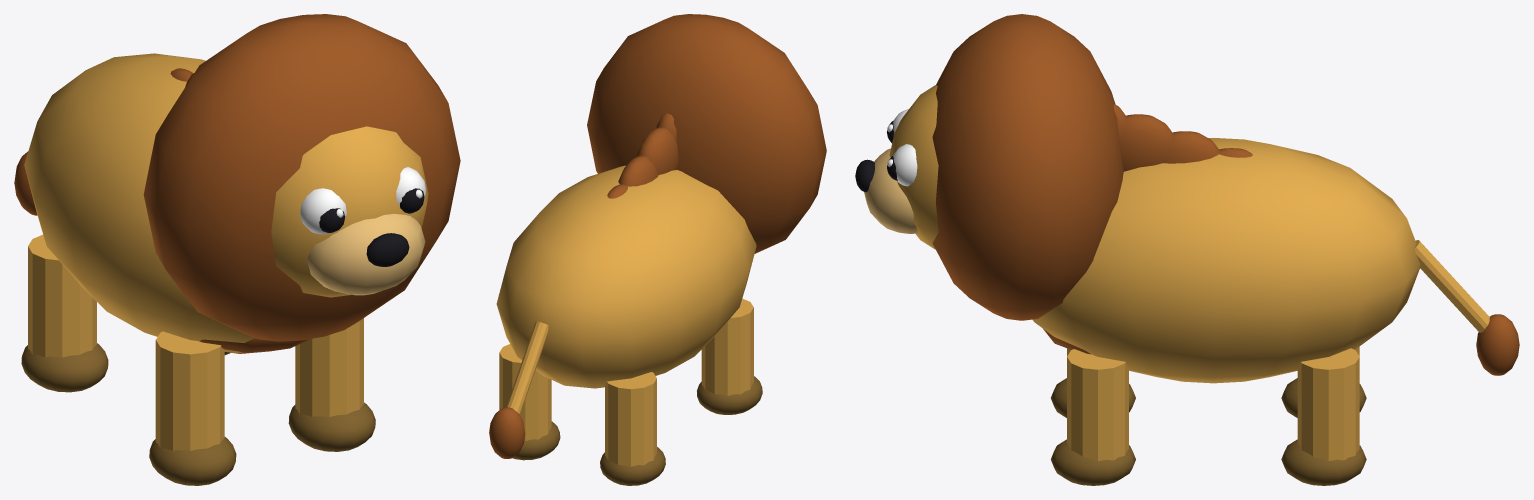
3 renders of one model, left to right at view 1: azimuth 30°, elevation 25°; view 2: azimuth 150°, elevation 25°; view 3: azimuth 270°, elevation 25°, orthographic. The views are drawn at different scales.
Visible parts, largest first — view 1: Lion; view 2: Lion; view 3: Lion.
Boxes of the visible parts, x1,y1,x2,y2 form: Lion: (14, 14, 460, 485); Lion: (489, 14, 826, 485); Lion: (855, 14, 1519, 485).
Size of the model in its own units: 1.98 by 3 by 4.28.
1 material, 1 textured.
